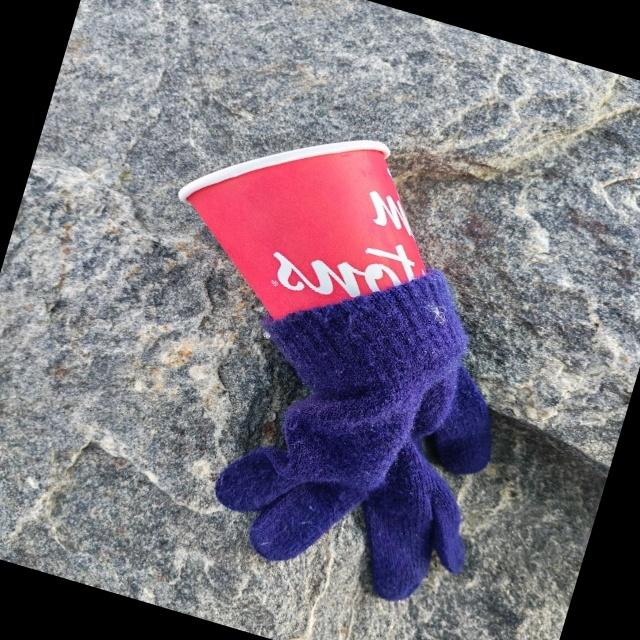Timmies: (147, 85, 473, 364)
